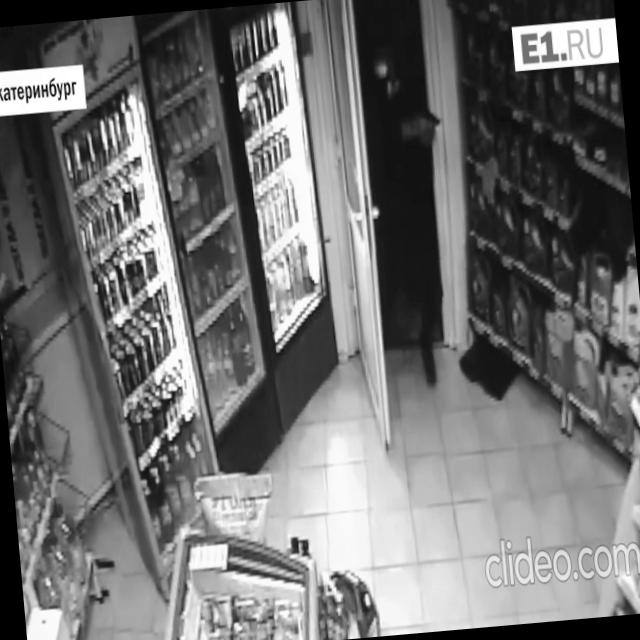gun: (418, 104, 444, 131)
person with a gun: (352, 23, 467, 394)
